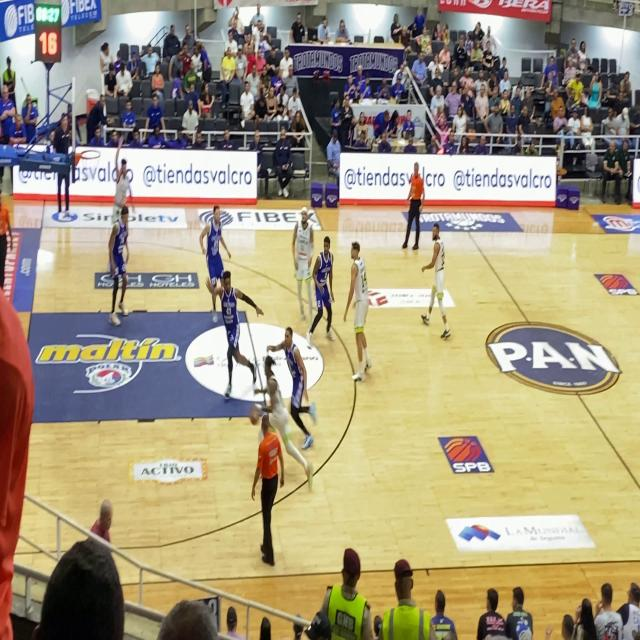Ball: (250, 402, 262, 428)
referee: (245, 413, 295, 584), (401, 163, 428, 258)
team1: (338, 232, 382, 392), (420, 216, 452, 354), (286, 205, 320, 327), (255, 354, 290, 430), (107, 142, 132, 220)
team2: (207, 249, 256, 399), (282, 308, 330, 446), (106, 210, 134, 336), (308, 233, 338, 343), (193, 205, 231, 282)
ubasket: (78, 145, 101, 173)
